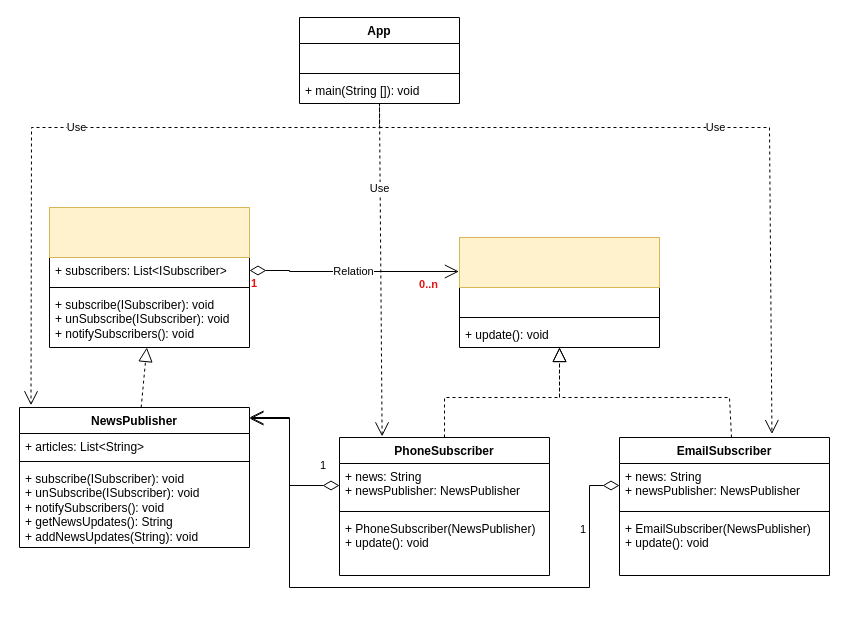
The diagram is 847 pixels wide and 622 high, and some of its shapes have lost their labels. Here are the shapes that lost their labels. From the top down, the centre of each, then its label:
At (149,232): "«interface» IPublisher".
At (559,262): "«interface» ISubscriber".
